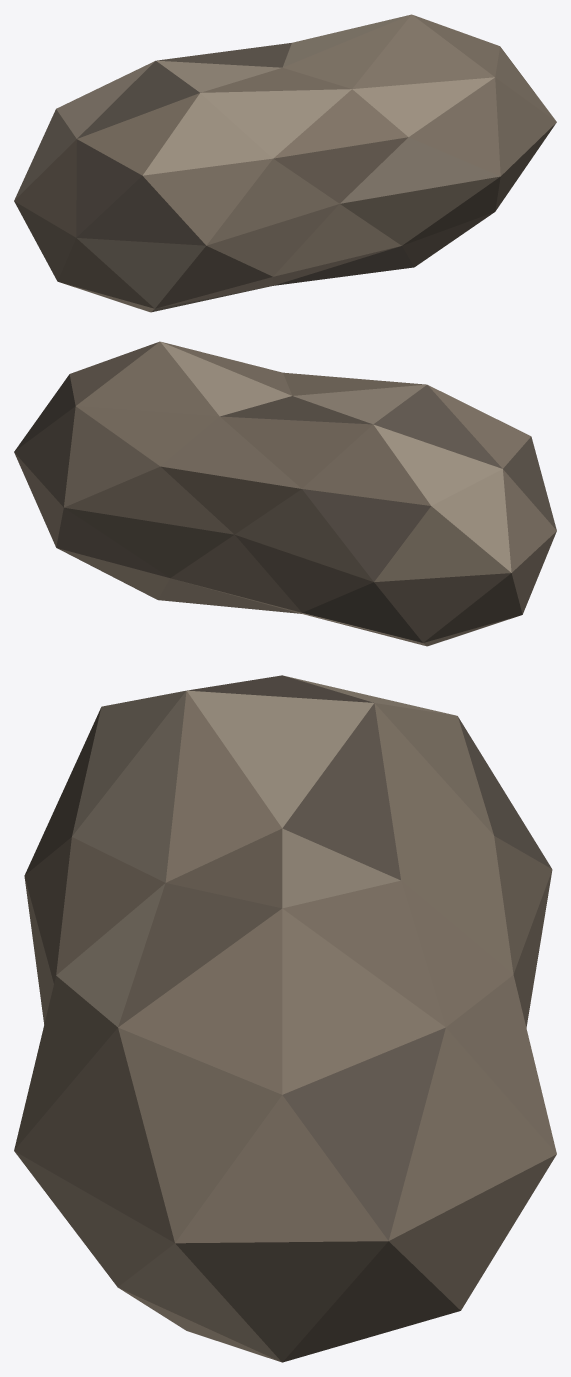
Rendered from Apophis.glb.
The picture shows the model from 3 angles, top to bottom: view 1: azimuth 30°, elevation 25°; view 2: azimuth 150°, elevation 25°; view 3: azimuth 270°, elevation 25°; orthographic projection. The views are drawn at different scales.
Visible parts, largest first — view 1: Apophis; view 2: Apophis; view 3: Apophis.
Boxes of the visible parts, x1,y1,x2,y2 form: Apophis: [14, 14, 556, 312]; Apophis: [14, 341, 556, 646]; Apophis: [14, 675, 556, 1362].
Bounding box in the file's own units: 0.2547 × 0.1169 × 0.127.
